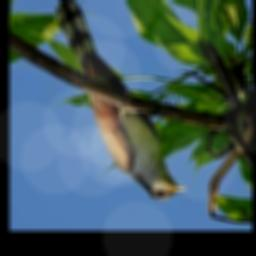Cuckoo: (55, 0, 188, 200)
